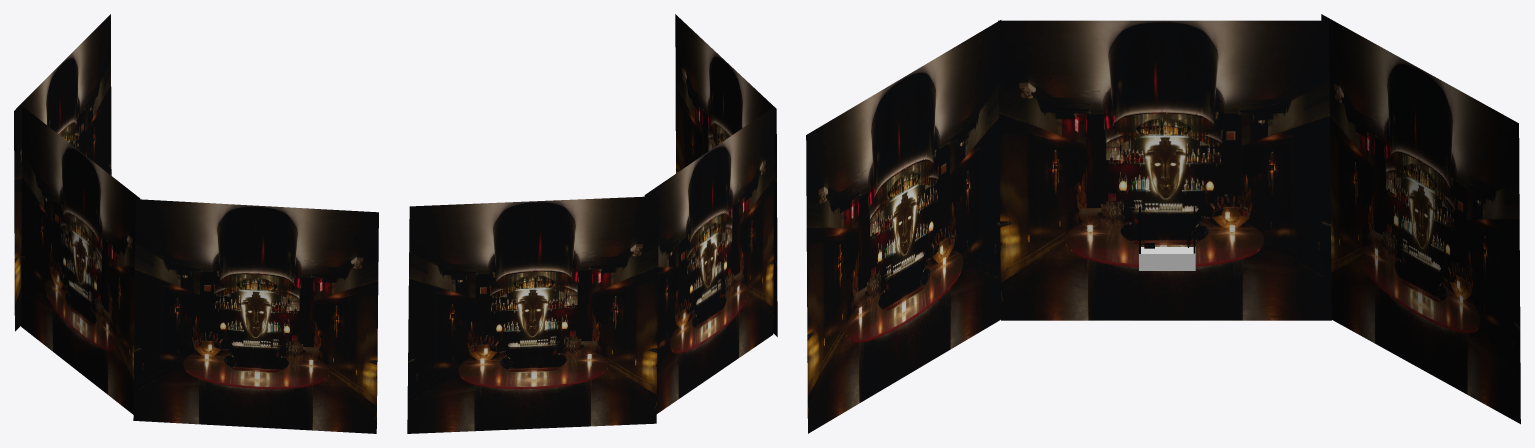
File: lounged.fbx
3 views of the same model, side by side, from view 1: azimuth 30°, elevation 25°; view 2: azimuth 150°, elevation 25°; view 3: azimuth 270°, elevation 25° (orthographic). The views are drawn at different scales.
Visible parts, largest first — view 1: Plane.001, Plane, Plane.002; view 2: Plane.002, Plane, Plane.001; view 3: Plane, Plane.001, Plane.002, Cube.
Boxes of the visible parts, x1=… form: Plane.001: x1=133, y1=199, x2=378, y2=433; Plane: x1=21, y1=106, x2=140, y2=414; Plane.002: x1=14, y1=14, x2=111, y2=331; Plane.002: x1=407, y1=196, x2=658, y2=433; Plane: x1=644, y1=106, x2=774, y2=413; Plane.001: x1=675, y1=14, x2=777, y2=336; Plane: x1=998, y1=20, x2=1331, y2=320; Plane.001: x1=806, y1=20, x2=1001, y2=433; Plane.002: x1=1321, y1=14, x2=1520, y2=424; Cube: x1=1139, y1=247, x2=1195, y2=270.
Bounding box in the file's own units: 30125 × 37658 × 79040.
3 materials, 1 textured.
